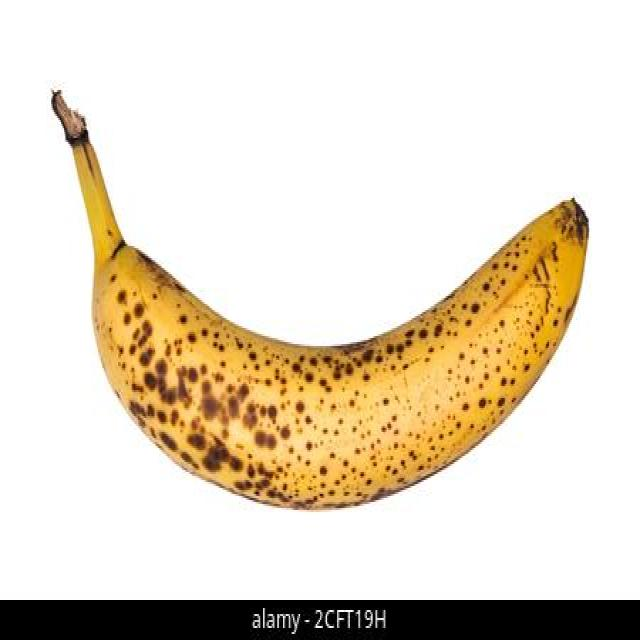overripe: (71, 131, 594, 516)
